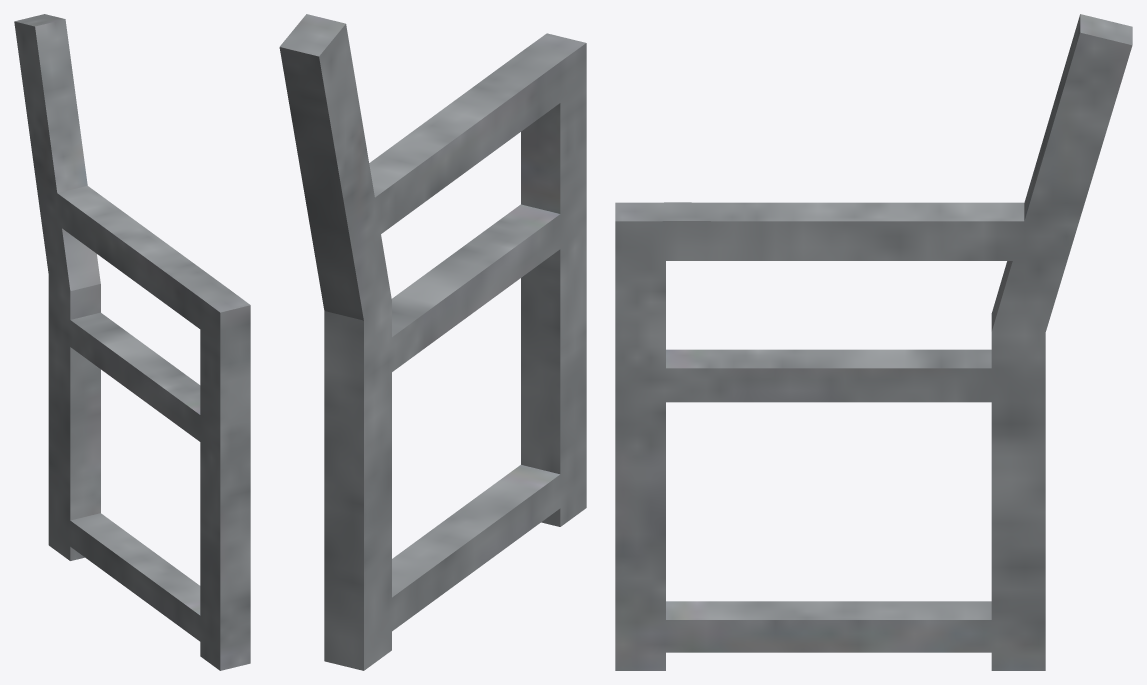
Rendered from BenchFrame.fbx.
3 views of the same model, side by side, from view 1: azimuth 30°, elevation 25°; view 2: azimuth 150°, elevation 25°; view 3: azimuth 270°, elevation 25° (orthographic). The views are drawn at different scales.
Visible parts, largest first — view 1: bench 27.001; view 2: bench 27.001; view 3: bench 27.001.
Boxes of the visible parts, bbox=[...] form: bench 27.001: bbox=[14, 14, 250, 670]; bench 27.001: bbox=[279, 14, 586, 670]; bench 27.001: bbox=[615, 14, 1132, 670].
Bounding box in the file's own units: 0.2644 × 4.22 × 3.1.
